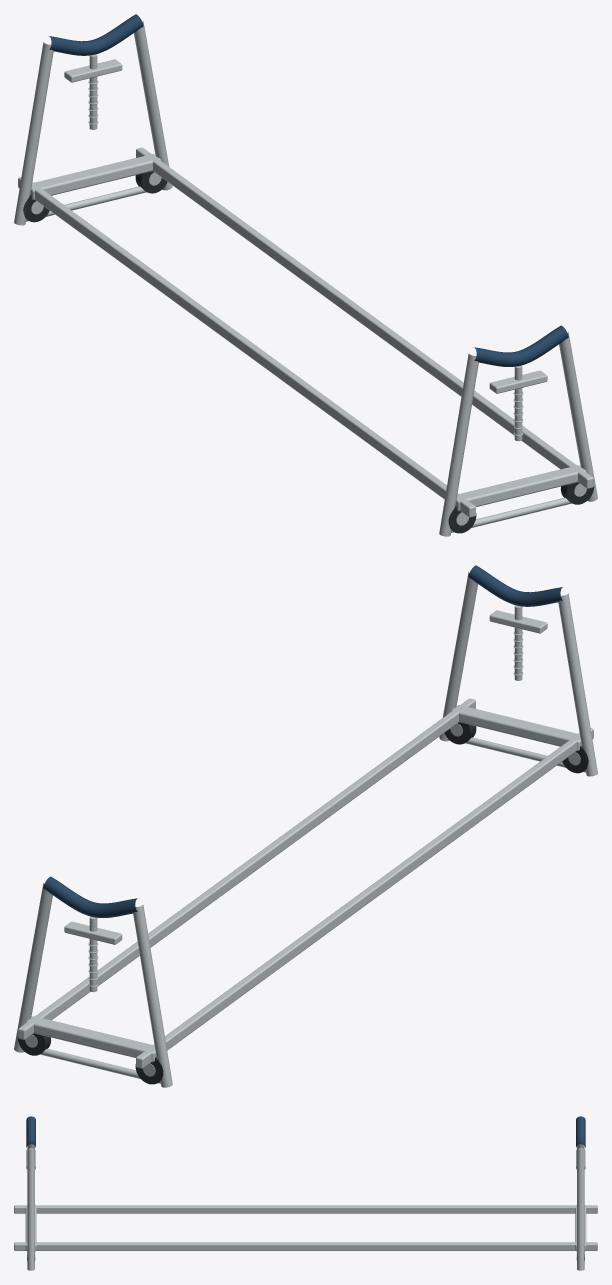
File: rowing-boathouse-and-regatta-course-shell-repair-cradl-1b0f4f78__32146.glb
The picture shows the model from 3 angles, top to bottom: view 1: azimuth 30°, elevation 25°; view 2: azimuth 150°, elevation 25°; view 3: azimuth 270°, elevation 25°; orthographic projection. The views are drawn at different scales.
Parts seen in each view (by area): view 1: shell-repair-cradle; view 2: shell-repair-cradle; view 3: shell-repair-cradle.
Part boxes in pixels (x1=…): shell-repair-cradle: x1=14, y1=14, x2=597, y2=536; shell-repair-cradle: x1=14, y1=565, x2=597, y2=1087; shell-repair-cradle: x1=14, y1=1116, x2=597, y2=1270.
Size of the model in its own units: 0.854 by 0.9382 by 4.25.
